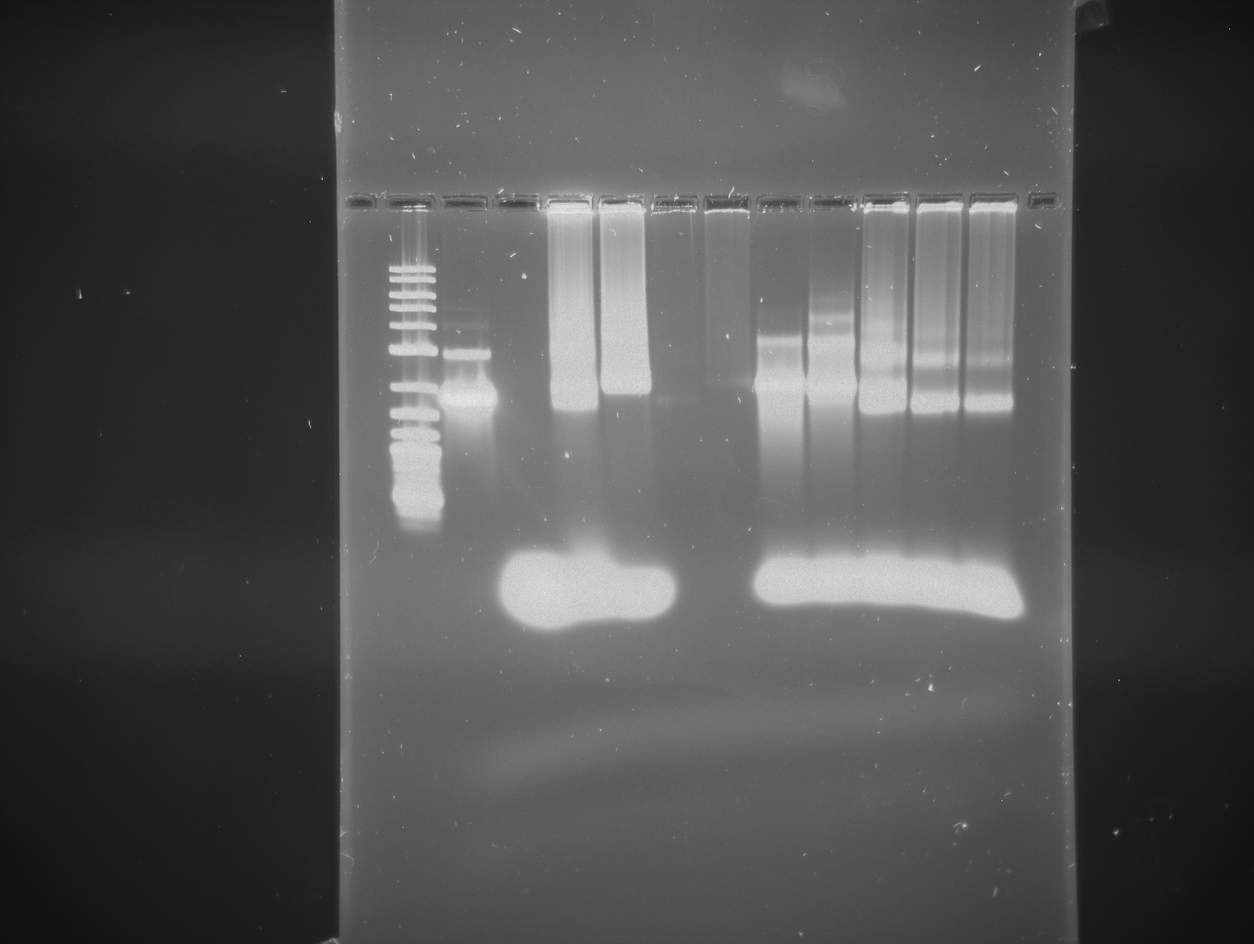Lane: (542, 152, 595, 929), (445, 148, 497, 921), (811, 141, 860, 944), (758, 145, 807, 944), (698, 157, 748, 929), (968, 127, 1015, 944), (913, 118, 960, 929), (604, 166, 651, 944), (864, 138, 904, 935), (505, 145, 534, 921), (662, 124, 689, 931)
ladder: (387, 164, 444, 907)
